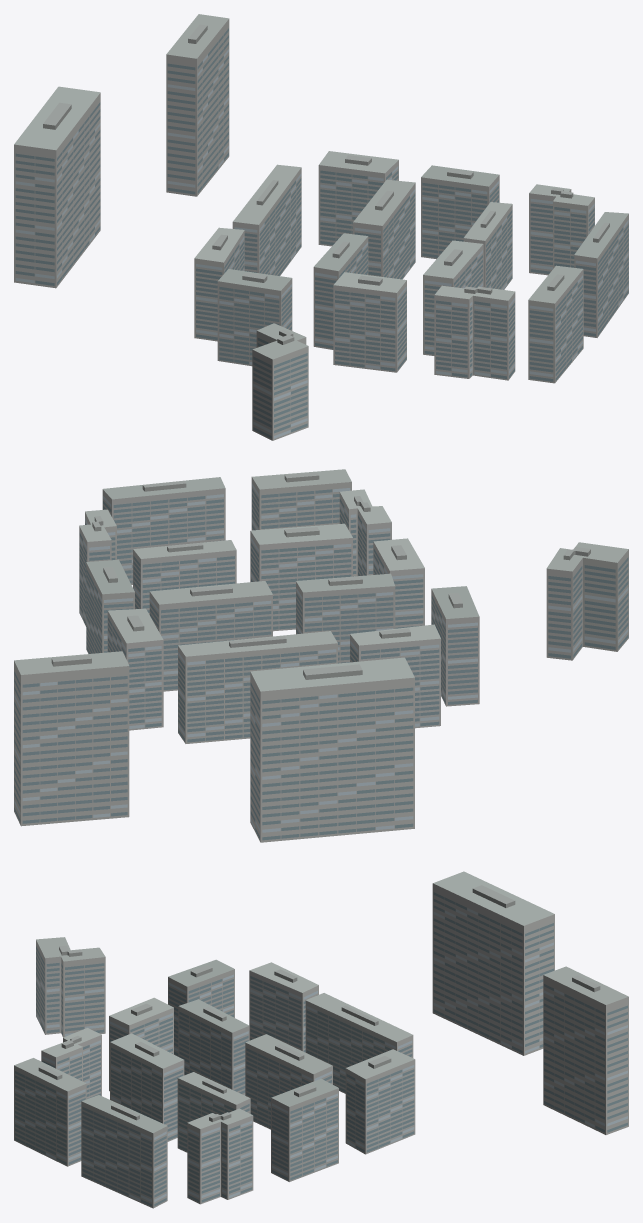
The model's file is apt-a12104005.glb.
3 views of the same model, one above another, from view 1: azimuth 30°, elevation 25°; view 2: azimuth 150°, elevation 25°; view 3: azimuth 270°, elevation 25° (orthographic). The views are drawn at different scales.
Parts seen in each view (by area): view 1: apt-a12104005; view 2: apt-a12104005; view 3: apt-a12104005.
Part boxes in pixels (<box>): apt-a12104005: <box>14,14,628,440</box>; apt-a12104005: <box>14,469,628,842</box>; apt-a12104005: <box>14,871,628,1208</box>.
Bounding box in the file's own units: 265 × 80 × 332.
